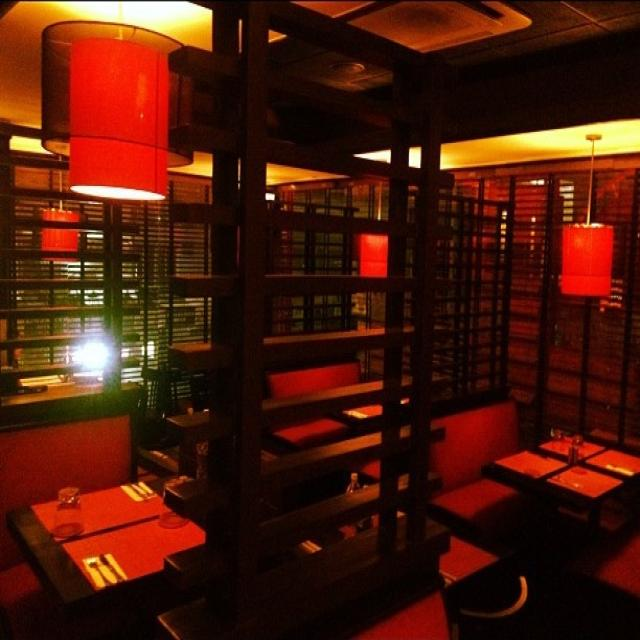Table: (7, 470, 240, 633), (478, 414, 640, 586)
chair: (0, 372, 169, 544), (422, 359, 544, 544)
